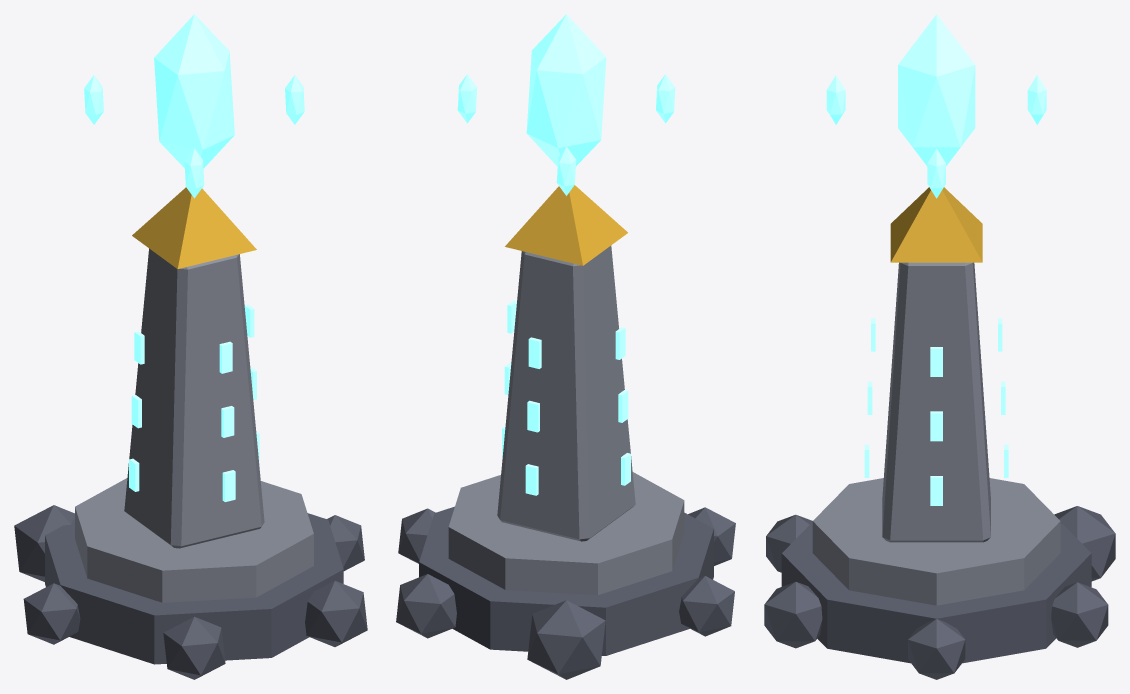
File: totem.glb
The picture shows the model from 3 angles, left to right: view 1: azimuth 30°, elevation 25°; view 2: azimuth 150°, elevation 25°; view 3: azimuth 270°, elevation 25°; orthographic projection.
Parts seen in each view (by area): view 1: Obelisk, Step, Base, CrystalMesh, Cap, Rock.005, Rock.004, Rock.003, Rock.002, Rock, Shard.002, Shard.001 (+1 smaller); view 2: Obelisk, Step, Base, CrystalMesh, Cap, Rock.002, Rock.001, Rock.003, Rock, Rock.004, Shard, Shard.002 (+1 smaller); view 3: Obelisk, Step, Base, CrystalMesh, Cap, Rock.005, Rock.001, Rock, Rock.002, Rock.004, Shard.001, Shard.002 (+1 smaller).
Part boxes in pixels (box(x1,y1,x2,y2)): Obelisk: box(124, 248, 264, 548); Step: box(75, 478, 313, 602); Base: box(45, 513, 343, 664); CrystalMesh: box(154, 14, 234, 168); Cap: box(132, 187, 256, 268); Rock.005: box(305, 581, 367, 646); Rock.004: box(163, 616, 225, 679); Rock.003: box(23, 583, 80, 644); Rock.002: box(14, 505, 74, 581); Rock: box(327, 515, 364, 570); Shard.002: box(184, 148, 204, 198); Shard.001: box(84, 75, 103, 124); Obelisk: box(497, 245, 635, 541); Step: box(448, 472, 684, 595); Base: box(419, 506, 713, 655); CrystalMesh: box(526, 14, 606, 166); Cap: box(505, 185, 627, 265); Rock.002: box(527, 600, 605, 679); Rock.001: box(396, 574, 456, 638); Rock.003: box(679, 576, 734, 636); Rock: box(398, 508, 435, 563); Rock.004: box(688, 507, 735, 565); Shard: box(457, 74, 477, 123); Shard.002: box(656, 74, 675, 123); Obelisk: box(882, 262, 990, 542); Step: box(812, 478, 1060, 605); Base: box(781, 522, 1091, 663); CrystalMesh: box(898, 14, 975, 166); Cap: box(890, 187, 982, 262); Rock.005: box(764, 581, 822, 648); Rock.001: box(1051, 582, 1108, 647); Rock: box(908, 619, 965, 679); Rock.002: box(1054, 506, 1115, 581); Rock.004: box(766, 514, 812, 572); Shard.001: box(1027, 75, 1046, 124); Shard.002: box(826, 75, 845, 124).
Bounding box in the file's own units: 2.49 × 4.33 × 2.27.
